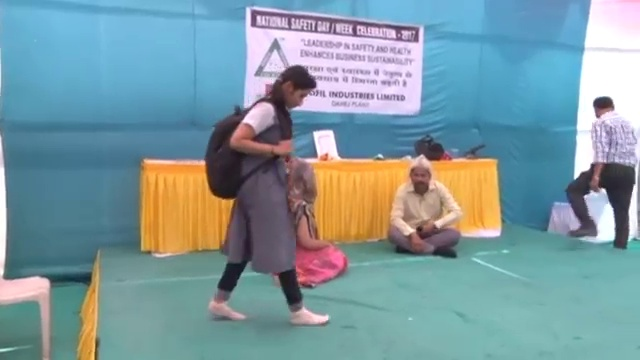helmet_off: (272, 65, 317, 111), (284, 155, 319, 203), (408, 155, 434, 194), (591, 96, 618, 120)
person: (198, 65, 333, 328), (563, 95, 640, 251), (279, 152, 349, 286), (389, 155, 462, 259)
